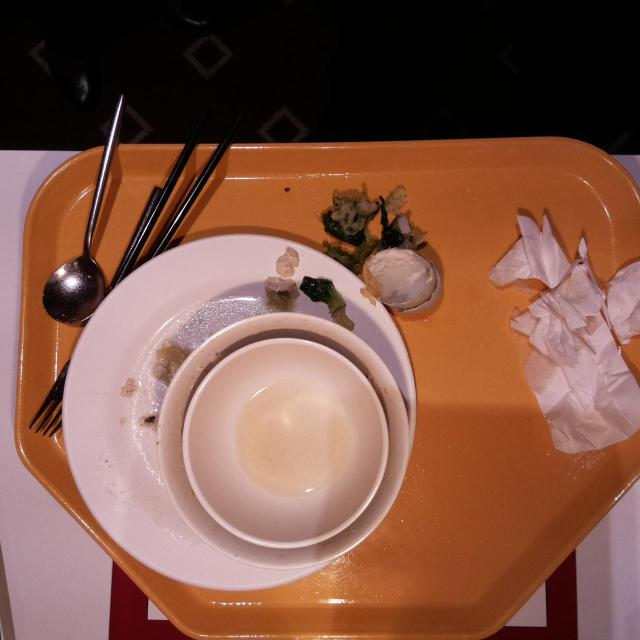Egg-shell: (360, 245, 442, 315)
Vegetable: (299, 275, 343, 307)
